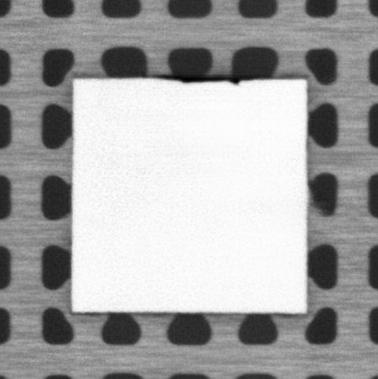DIE_BROKEN: (154, 72, 253, 85)
